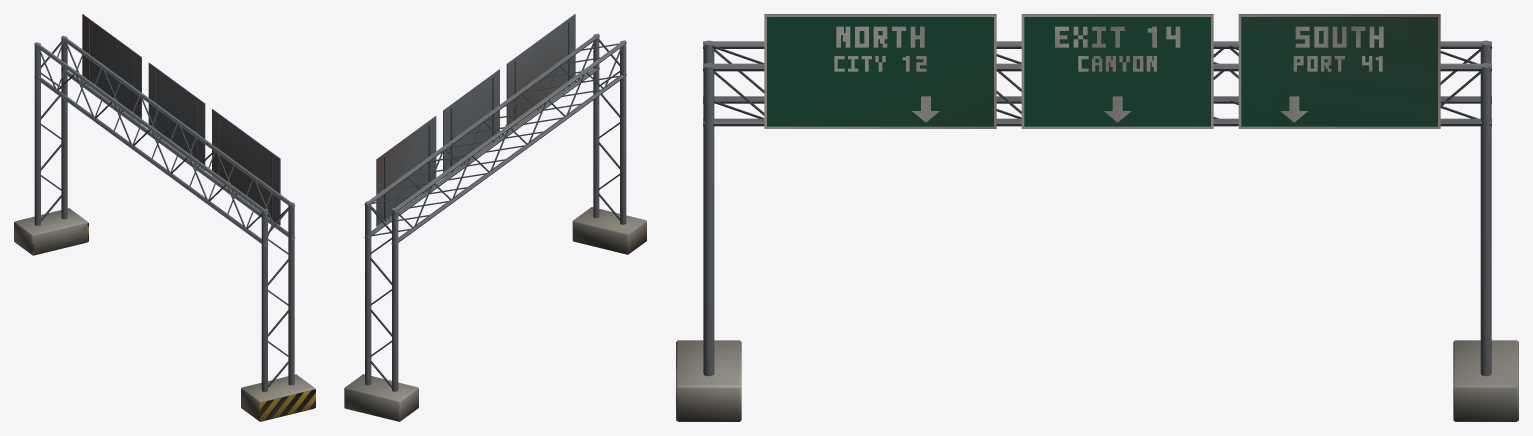
Rendered from highway_sign.glb.
3 views of the same model, side by side, from view 1: azimuth 30°, elevation 25°; view 2: azimuth 150°, elevation 25°; view 3: azimuth 270°, elevation 25° (orthographic). The views are drawn at different scales.
Visible parts, largest first — view 1: HighwaySign; view 2: HighwaySign; view 3: HighwaySign.
Part boxes in pixels (x1,y1,x2,y2): HighwaySign: (14,14,315,421); HighwaySign: (344,14,646,421); HighwaySign: (676,14,1518,421).
Bounding box in the file's own units: 2.2 × 8.75 × 16.7.
